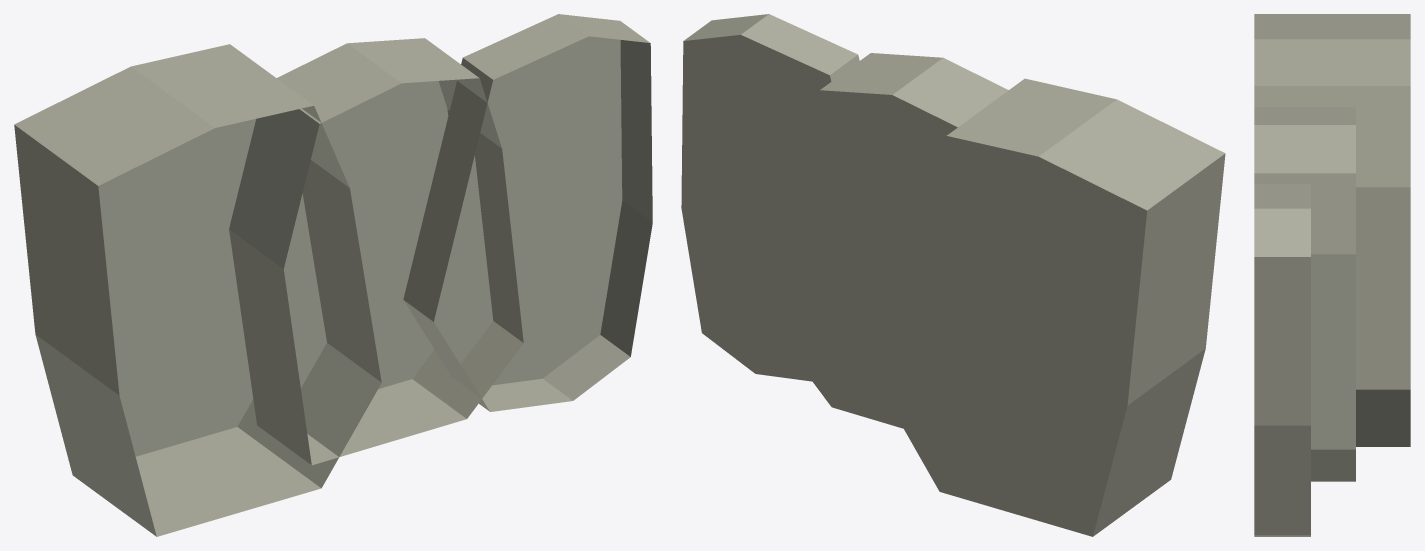
Rendered from Stairs 02.FBX.
The picture shows the model from 3 angles, left to right: view 1: azimuth 30°, elevation 25°; view 2: azimuth 150°, elevation 25°; view 3: azimuth 270°, elevation 25°; orthographic projection. The views are drawn at different scales.
Visible parts, largest first — view 1: Stairs 02; view 2: Stairs 02; view 3: Stairs 02.
Part boxes in pixels (x1,y1,x2,y2): Stairs 02: (14,14,652,536); Stairs 02: (681,14,1225,536); Stairs 02: (1254,14,1410,536).
Size of the model in its own units: 180 by 47.21 by 122.
